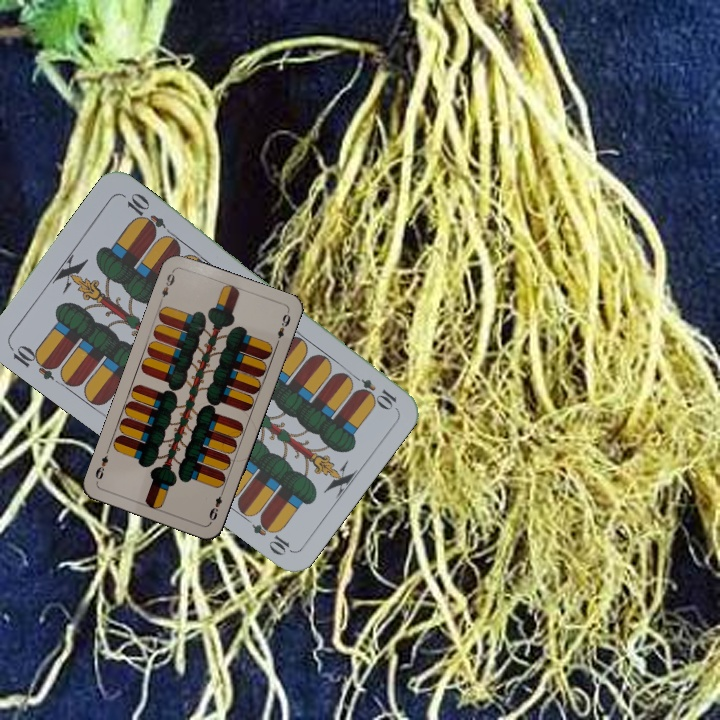E10: (5, 340, 61, 382), (345, 369, 400, 411)
E9: (156, 267, 177, 306), (205, 485, 226, 523)
